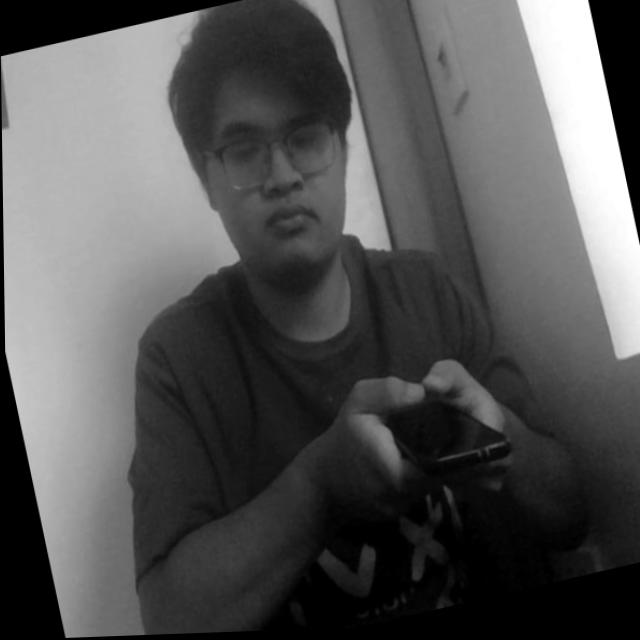phone: (350, 343, 529, 515)
